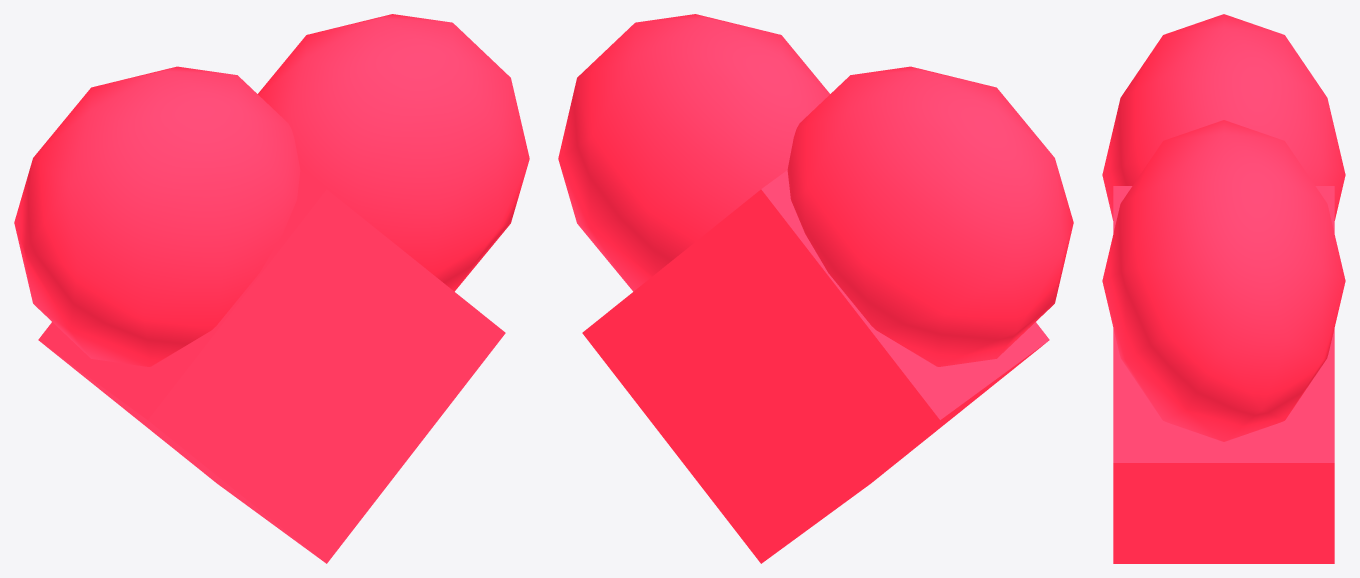
The model's file is powerup_heart.glb.
3 renders of one model, left to right at view 1: azimuth 30°, elevation 25°; view 2: azimuth 150°, elevation 25°; view 3: azimuth 270°, elevation 25°, orthographic.
Parts seen in each view (by area): view 1: powerup_heart; view 2: powerup_heart; view 3: powerup_heart.
Part boxes in pixels (box(x1,y1,x2,y2)): powerup_heart: box(14, 14, 529, 563); powerup_heart: box(558, 14, 1073, 563); powerup_heart: box(1102, 14, 1345, 563).
Size of the model in its own units: 0.78 by 0.7228 by 0.33.
